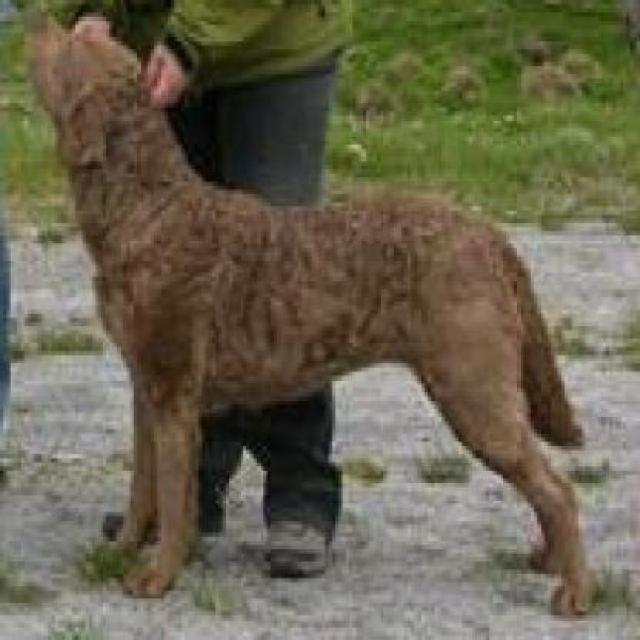Dog: (26, 11, 606, 618)
